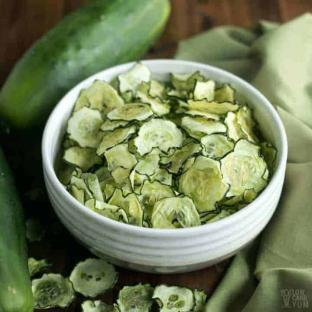Cucumber: (0, 0, 169, 128), (0, 148, 33, 311)
